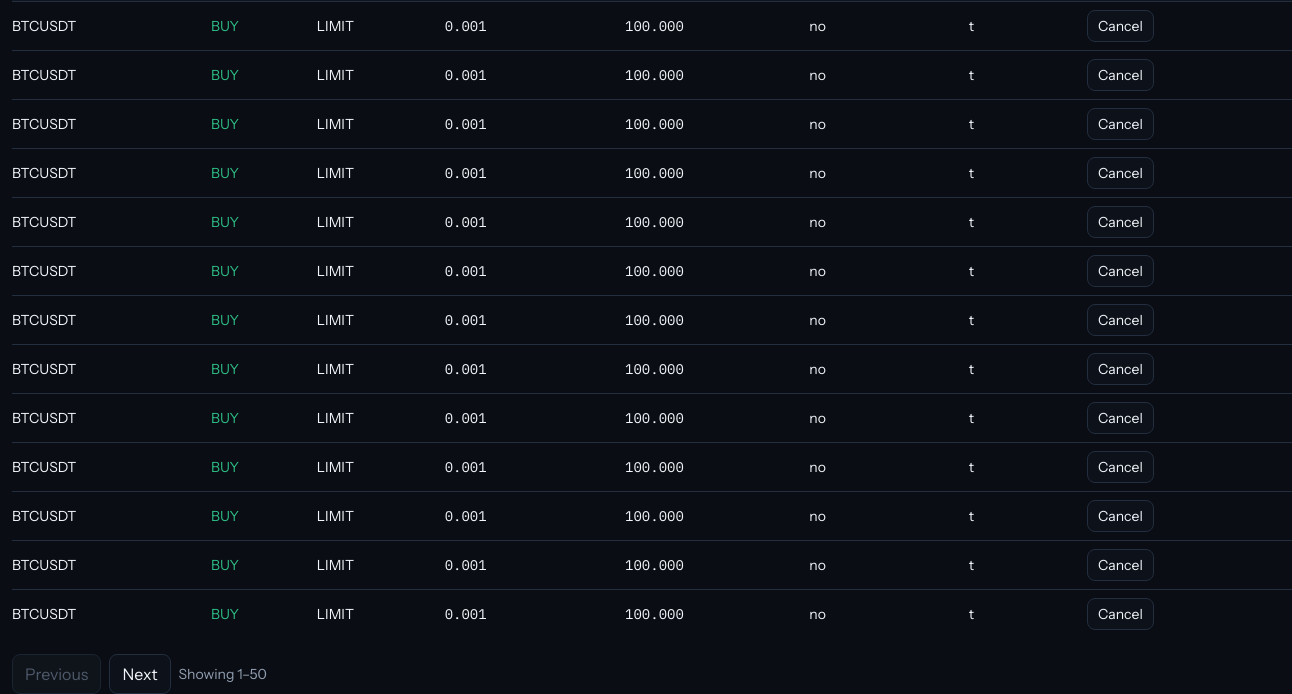
Test: OpenOrdersTable › returns to offset 0 from cache when Previous is clicked
(page scrolled)
Expected: the text "Showing 1–50" is shown, [178,664,267,684]
Click the button "Next" at (140, 674), box [109,654,170,693]
(page scrolled)
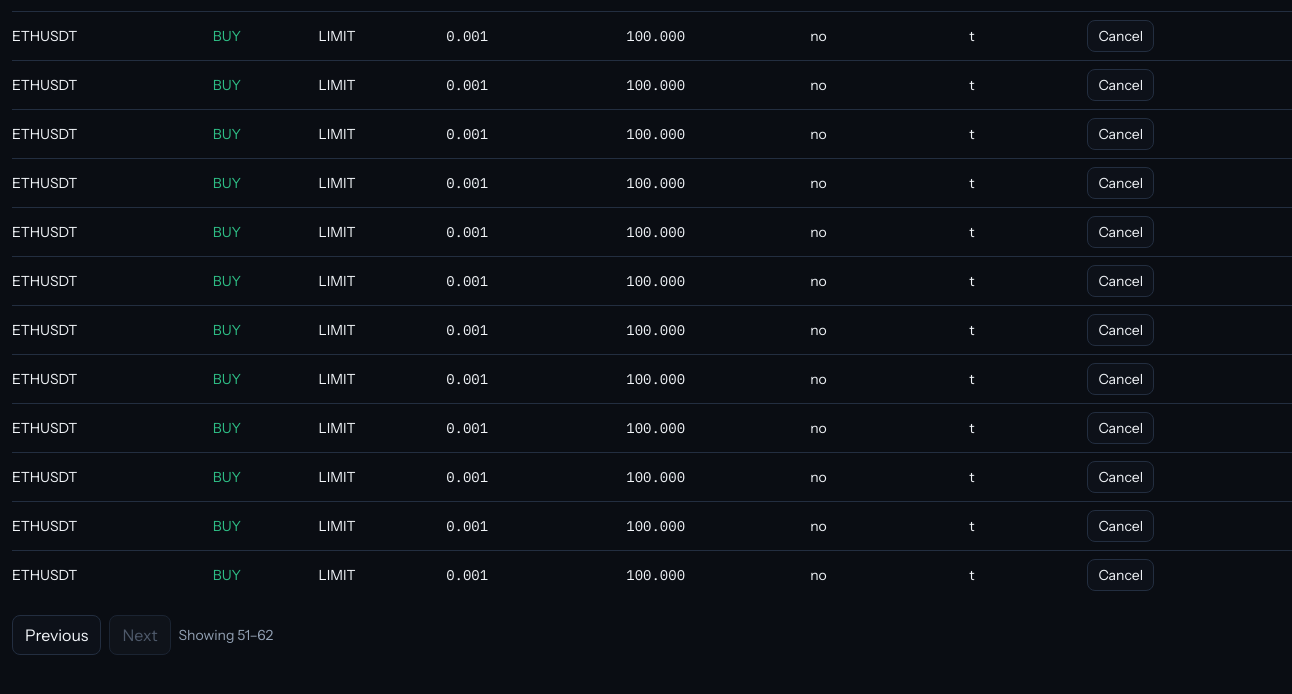
Expected: the text "Showing 51–62" is shown, [178,625,273,645]
Click the button "Previous" at (57, 635), box [12,615,101,655]
(page scrolled)
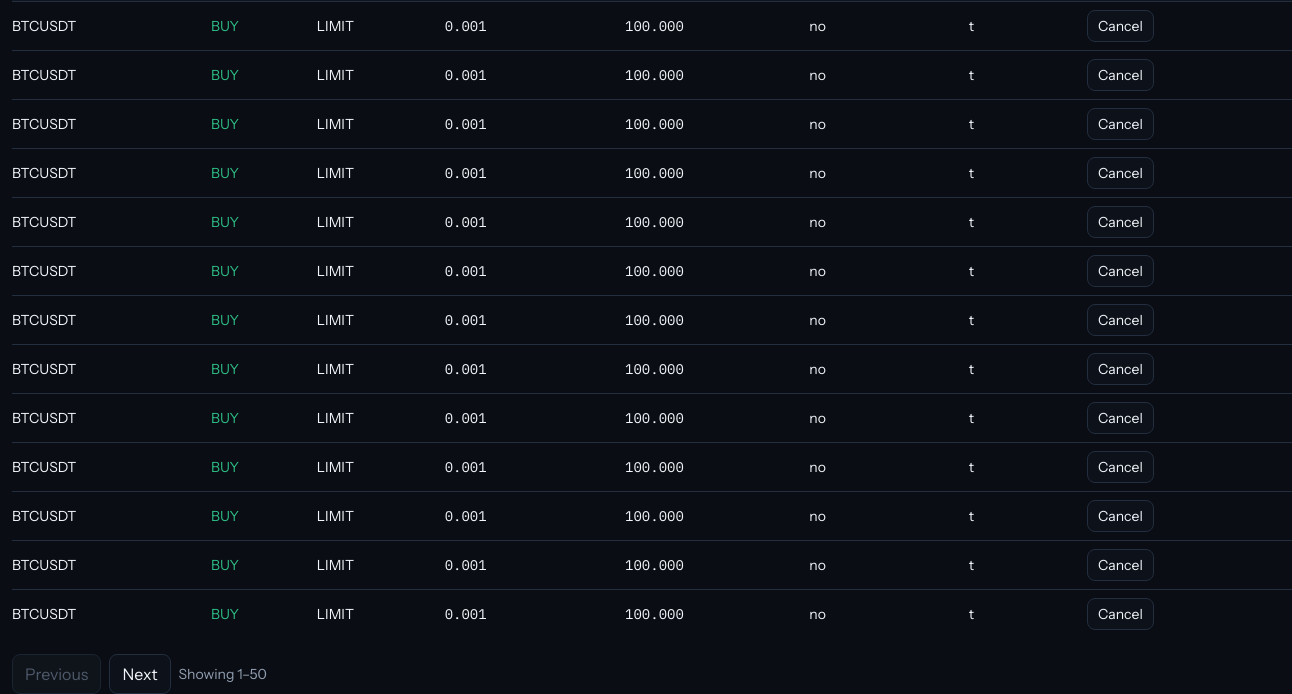
Expected: the text "Showing 1–50" is shown, [178,664,267,684]
Expected: the text "ETHUSDT" is gone
Expected: the button "Previous" is disabled, [12,654,101,693]
